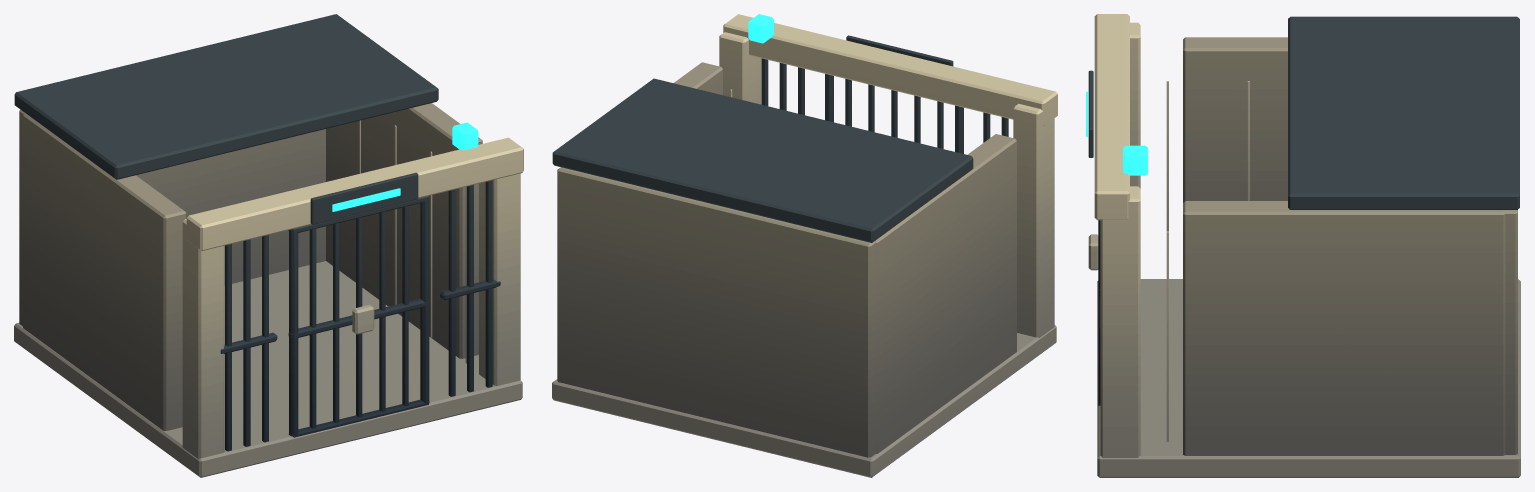
File: prisonHouse.glb
3 views of the same model, side by side, from view 1: azimuth 30°, elevation 25°; view 2: azimuth 150°, elevation 25°; view 3: azimuth 270°, elevation 25° (orthographic). The views are drawn at different scales.
Visible parts, largest first — view 1: Partial roof, Side masonry, Slab foundation, Side masonry.001, Rear masonry, Door lintel, Door jamb, Door jamb.001, Rescue sign, Sliding gate frame, Sliding gate frame.001, Fixed cell bar.001 (+16 smaller); view 2: Rear masonry, Partial roof, Side masonry, Door lintel, Slab foundation, Door jamb, Door jamb.001, Side masonry.001, Rescue sign, Rescue beacon; view 3: Side masonry.001, Partial roof, Slab foundation, Side masonry, Door jamb.001, Door lintel, Rear masonry, Door jamb, Rescue beacon, Mortar seam.004, Rescue sign, Sliding gate frame.001.
Boxes of the visible parts, x1,y1,x2,y2 form: Partial roof: [14, 14, 438, 179]; Side masonry: [23, 113, 186, 430]; Slab foundation: [14, 261, 522, 477]; Side masonry.001: [326, 103, 482, 358]; Rear masonry: [19, 109, 325, 326]; Door lintel: [186, 137, 523, 250]; Door jamb: [182, 219, 224, 458]; Door jamb.001: [479, 173, 520, 385]; Rescue sign: [310, 172, 418, 224]; Sliding gate frame: [289, 228, 298, 436]; Sliding gate frame.001: [420, 196, 429, 403]; Fixed cell bar.001: [243, 239, 250, 446]; Rear masonry: [557, 167, 875, 457]; Partial roof: [552, 78, 973, 242]; Side masonry: [874, 134, 1016, 453]; Door lintel: [723, 14, 1057, 125]; Slab foundation: [552, 325, 1056, 477]; Door jamb: [1013, 103, 1054, 337]; Door jamb.001: [719, 32, 760, 104]; Side masonry.001: [673, 62, 722, 95]; Rescue sign: [846, 35, 953, 66]; Rescue beacon: [748, 14, 773, 43]; Side masonry.001: [1183, 201, 1505, 455]; Partial roof: [1288, 16, 1519, 209]; Slab foundation: [1097, 279, 1520, 477]; Side masonry: [1183, 37, 1287, 202]; Door jamb.001: [1100, 186, 1140, 457]; Door lintel: [1094, 14, 1129, 220]; Rear masonry: [1496, 210, 1517, 454]; Door jamb: [1130, 22, 1140, 188]; Rescue beacon: [1123, 145, 1147, 175]; Mortar seam.004: [1166, 231, 1168, 441]; Rescue sign: [1088, 70, 1093, 157]; Sliding gate frame.001: [1098, 220, 1100, 403].
Bounding box in the file's own units: 4.2 × 3.36 × 4.31.
4 materials, 3 textured.
